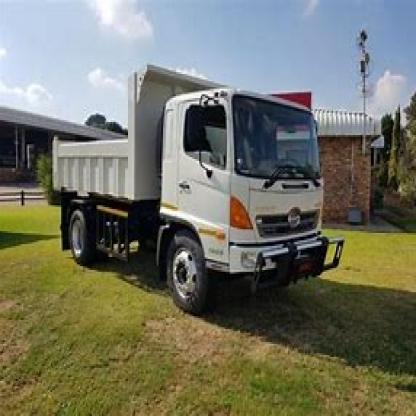dump_truck: (45, 54, 349, 320)
